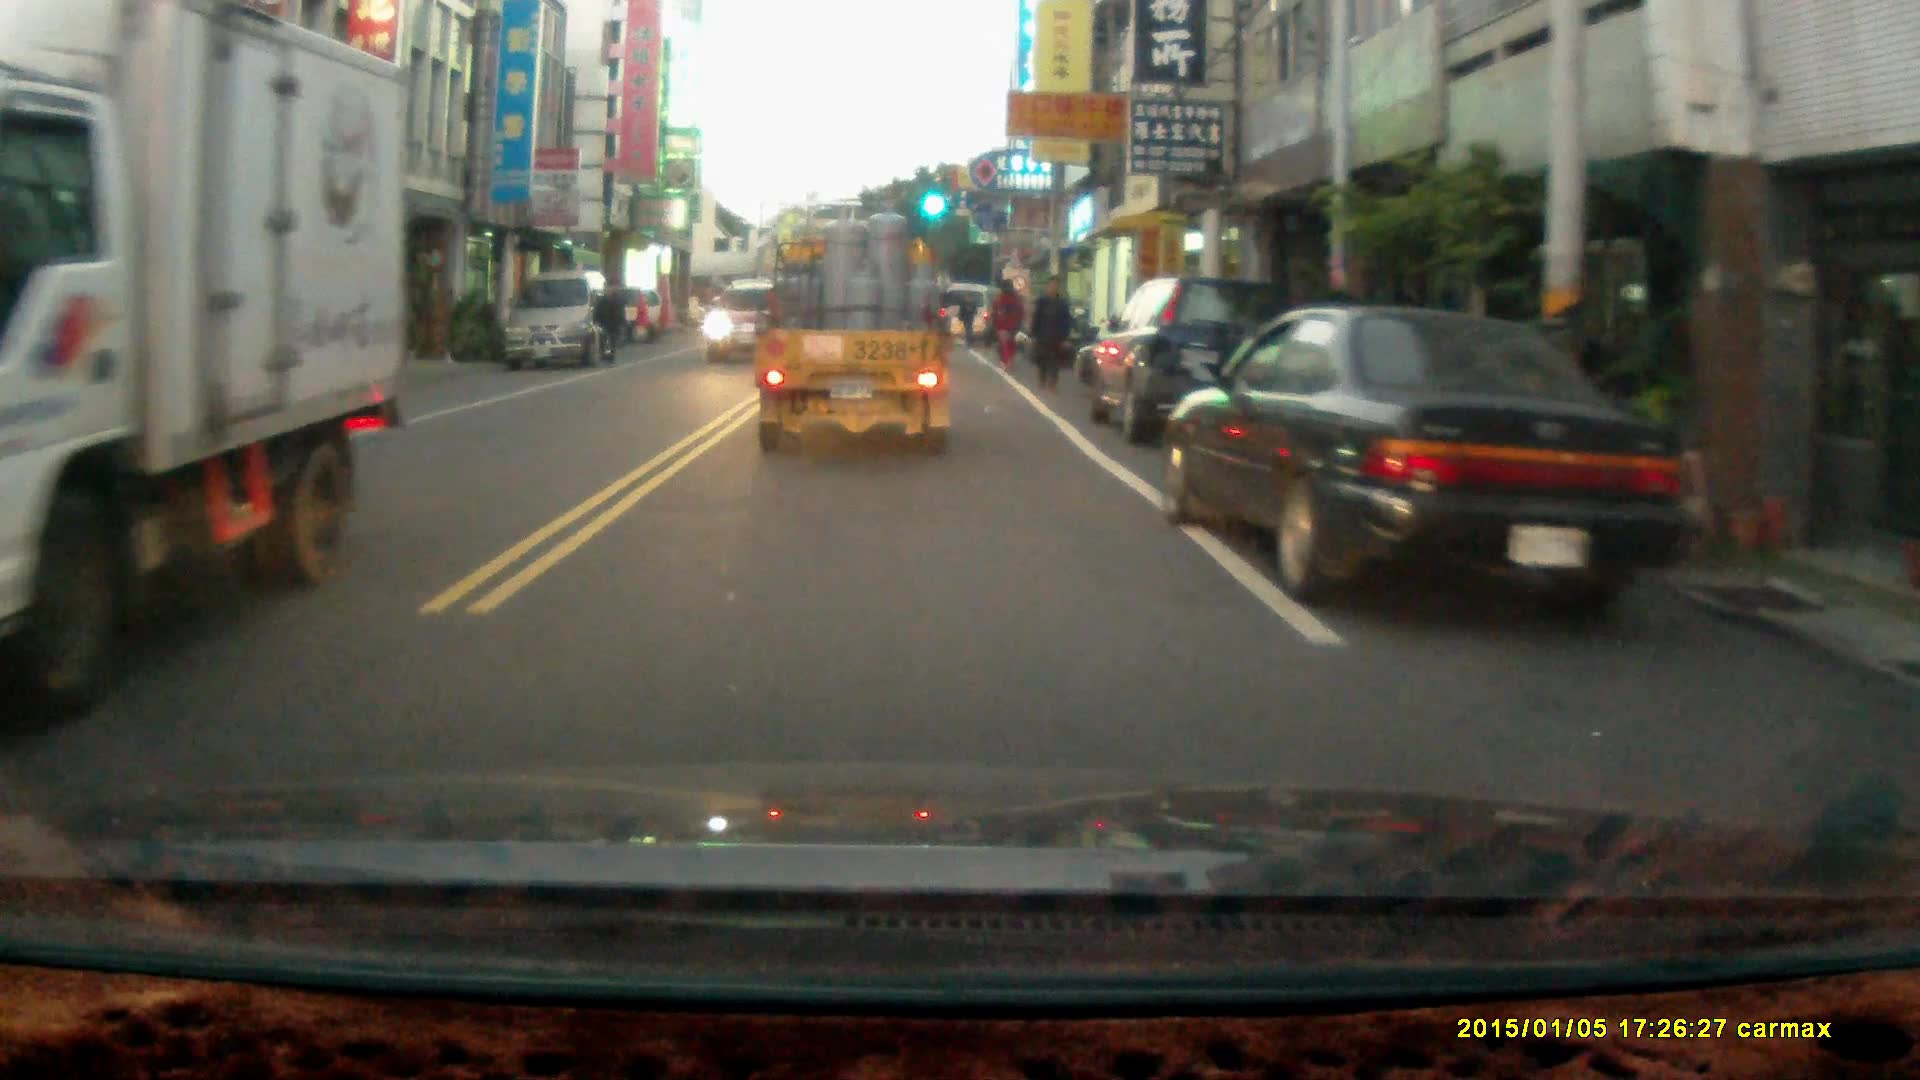pedestrian: (1024, 271, 1071, 394), (987, 278, 1023, 369), (591, 278, 625, 363), (955, 292, 976, 345)
vehicle: (1, 5, 405, 693), (1162, 306, 1703, 610), (748, 192, 960, 463), (1089, 276, 1307, 452), (503, 271, 618, 372), (698, 279, 787, 368)
